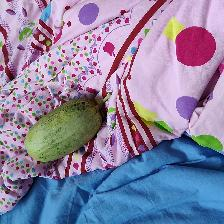gua: (24, 101, 97, 149)
